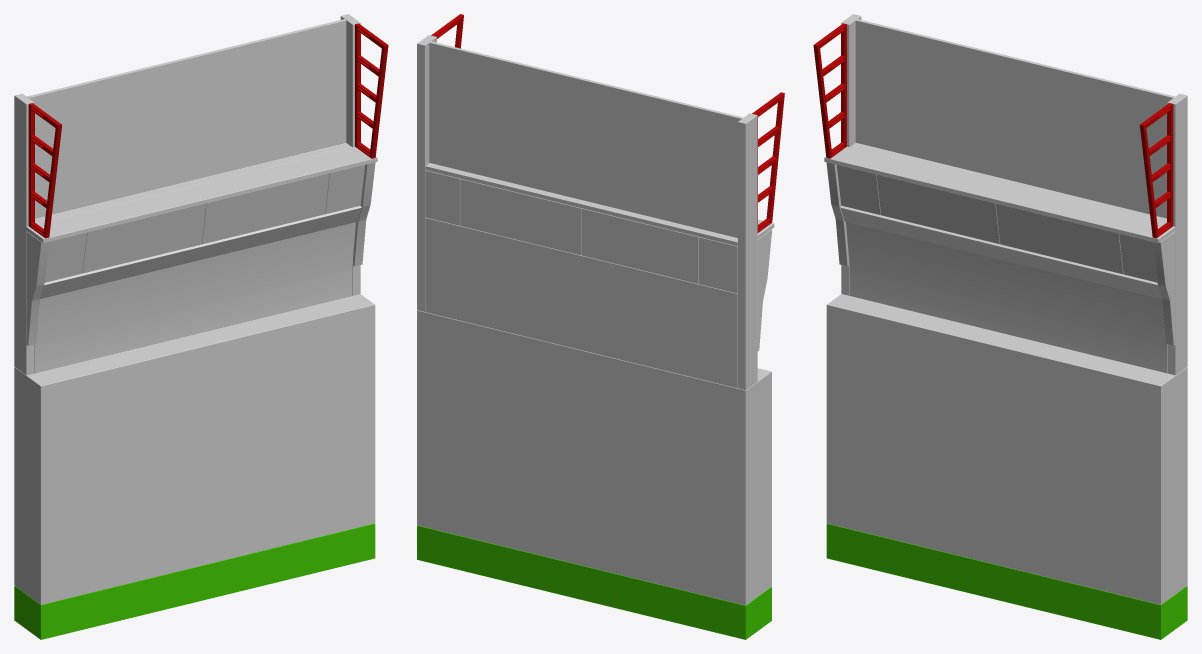
File: WallBench03.fbx
3 views of the same model, side by side, from view 1: azimuth 30°, elevation 25°; view 2: azimuth 150°, elevation 25°; view 3: azimuth 330°, elevation 25° (orthographic).
Visible parts, largest first — view 1: WallBench03; view 2: WallBench03; view 3: WallBench03.
Part boxes in pixels (x1=…): WallBench03: x1=14, y1=14, x2=388, y2=639; WallBench03: x1=417, y1=14, x2=784, y2=639; WallBench03: x1=813, y1=14, x2=1187, y2=639.
Bounding box in the file's own units: 100 × 21.69 × 150.
